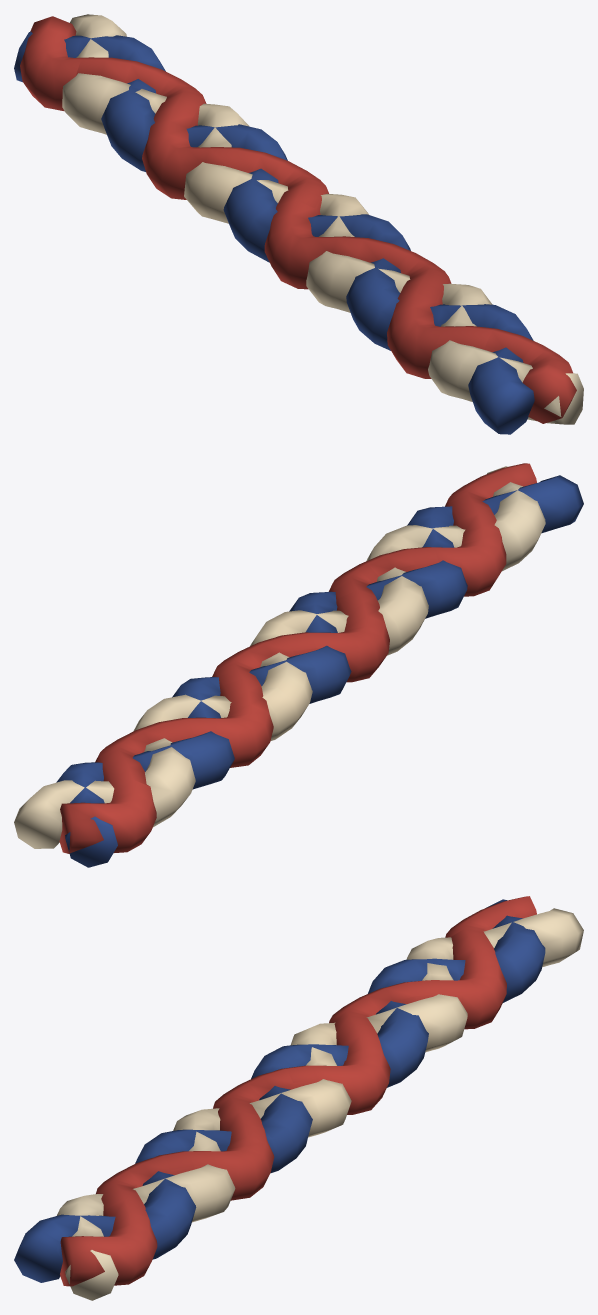
File: den_rug_binding.glb
3 views of the same model, one above another, from view 1: azimuth 30°, elevation 25°; view 2: azimuth 150°, elevation 25°; view 3: azimuth 330°, elevation 25° (orthographic). The views are drawn at different scales.
Parts seen in each view (by area): view 1: den_rug_binding; view 2: den_rug_binding; view 3: den_rug_binding.
Part boxes in pixels (left/top/right/bottom): den_rug_binding: left=14, top=14, right=583, bottom=434; den_rug_binding: left=14, top=463, right=583, bottom=867; den_rug_binding: left=14, top=896, right=583, bottom=1300.
Size of the model in its own units: 1.58 by 0.8196 by 12.46.
